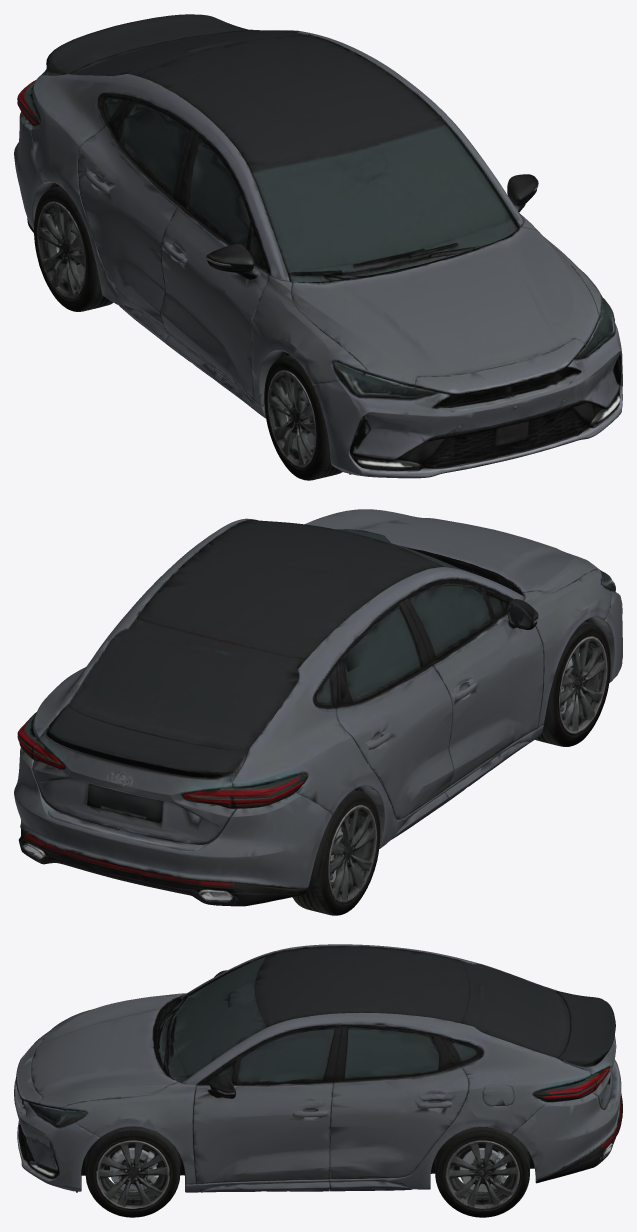
The model's file is car_hatch.glb.
The picture shows the model from 3 angles, top to bottom: view 1: azimuth 30°, elevation 25°; view 2: azimuth 150°, elevation 25°; view 3: azimuth 270°, elevation 25°; orthographic projection. The views are drawn at different scales.
Parts seen in each view (by area): view 1: tripo_node_8ab59725-be6d-47f6-b91d-43924e323fd1; view 2: tripo_node_8ab59725-be6d-47f6-b91d-43924e323fd1; view 3: tripo_node_8ab59725-be6d-47f6-b91d-43924e323fd1.
Boxes of the visible parts, box(x1,y1,x2,y2) form: tripo_node_8ab59725-be6d-47f6-b91d-43924e323fd1: box(14, 14, 622, 480); tripo_node_8ab59725-be6d-47f6-b91d-43924e323fd1: box(14, 509, 622, 915); tripo_node_8ab59725-be6d-47f6-b91d-43924e323fd1: box(14, 944, 622, 1217).
Size of the model in its own units: 1.92 by 1.4 by 4.06.
Materials: 1 (1 with a texture image).
